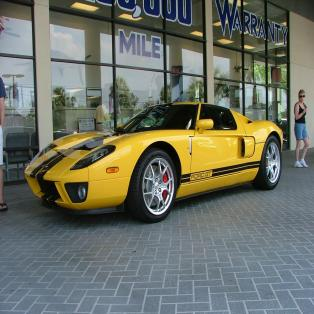Auto: (24, 98, 286, 222)
